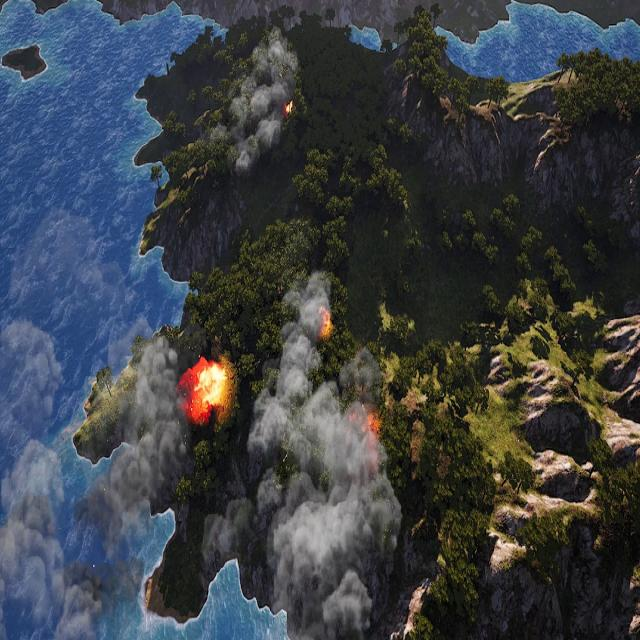fire: (186, 356, 228, 423), (320, 310, 332, 339), (285, 100, 294, 112)
smoke: (0, 228, 187, 640), (208, 266, 404, 638), (225, 27, 293, 176)
